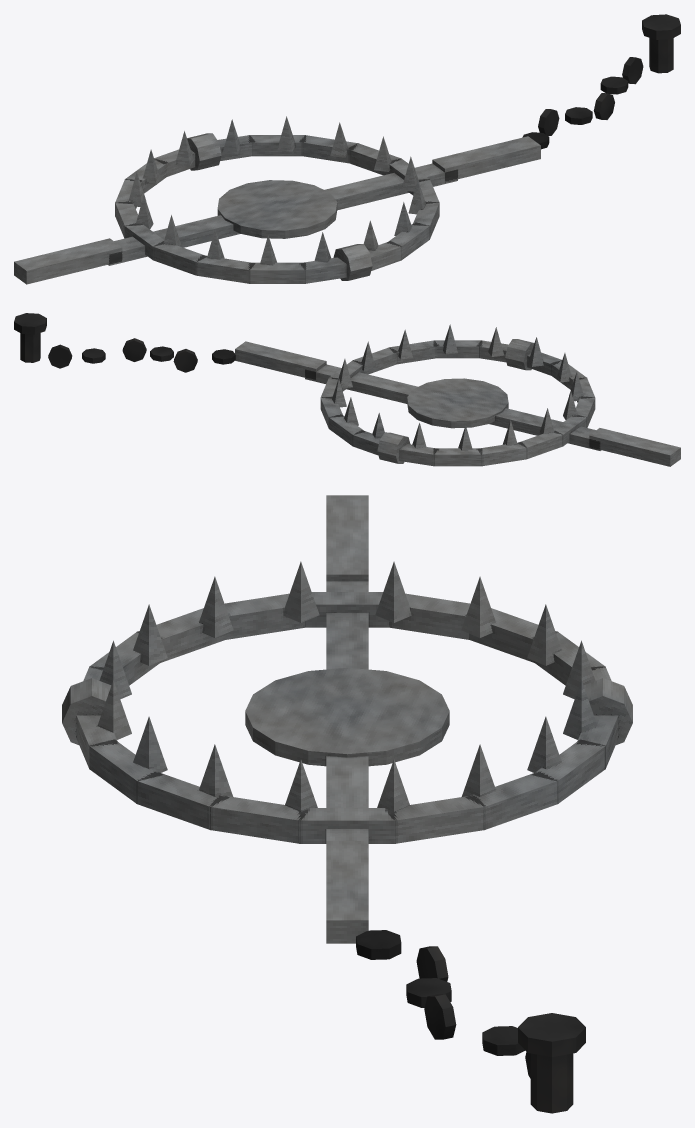
The model's file is trap_mine_light.glb.
3 renders of one model, top to bottom at view 1: azimuth 30°, elevation 25°; view 2: azimuth 150°, elevation 25°; view 3: azimuth 270°, elevation 25°, orthographic. The views are drawn at different scales.
Visible parts, largest first — view 1: trap_mine_light.001; view 2: trap_mine_light.001; view 3: trap_mine_light.001.
Boxes of the visible parts, bbox=[...] form: trap_mine_light.001: bbox=[14, 14, 680, 284]; trap_mine_light.001: bbox=[14, 313, 680, 466]; trap_mine_light.001: bbox=[62, 495, 632, 1113].
Bounding box in the file's own units: 1.65 × 0.111 × 0.67.
2 materials, 2 textured.
